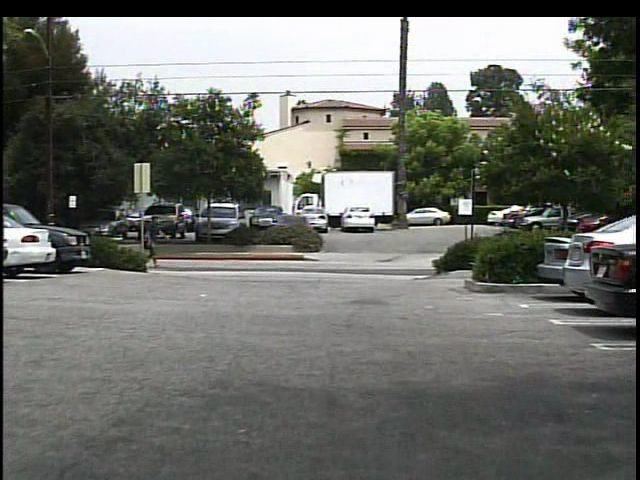person: (144, 212, 169, 272)
